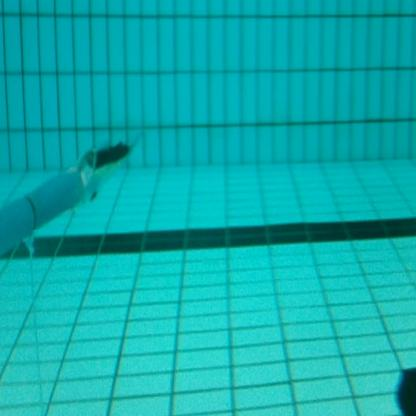tail: (72, 126, 145, 224)
